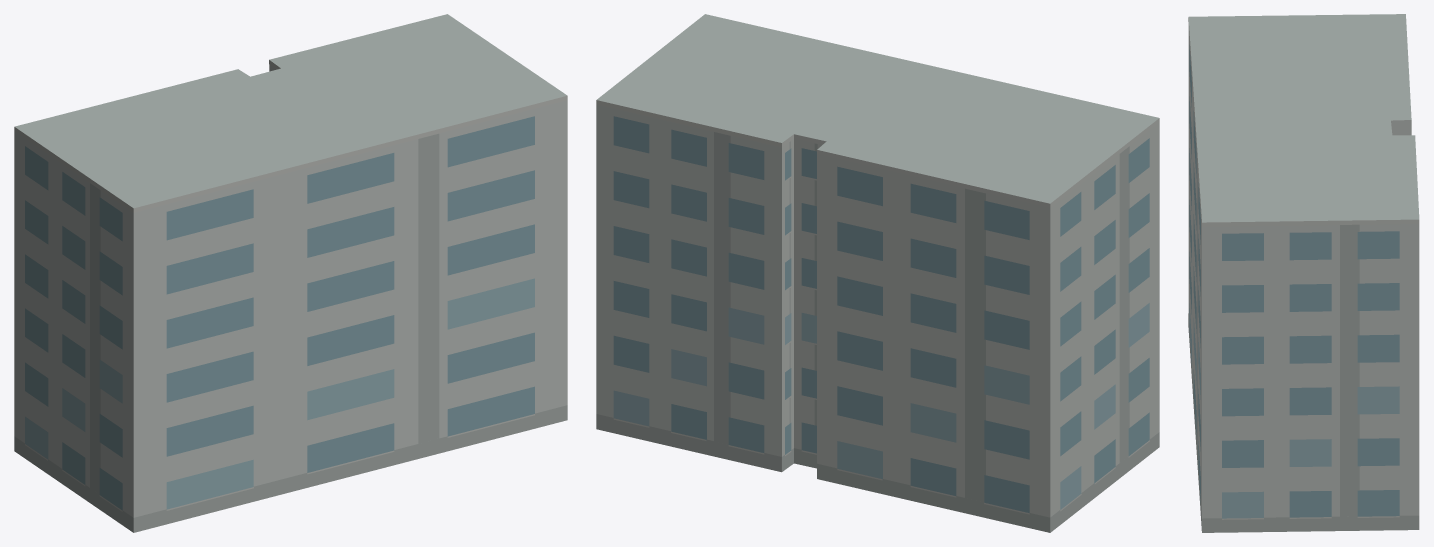
Rendered from survey-upis-32839145.glb.
3 renders of one model, left to right at view 1: azimuth 30°, elevation 25°; view 2: azimuth 150°, elevation 25°; view 3: azimuth 270°, elevation 25°, orthographic. The views are drawn at different scales.
Visible parts, largest first — view 1: survey-upis-32839145.tmp; view 2: survey-upis-32839145.tmp; view 3: survey-upis-32839145.tmp.
Part boxes in pixels (left/top/right/bottom): survey-upis-32839145.tmp: left=14, top=14, right=567, bottom=532; survey-upis-32839145.tmp: left=596, top=14, right=1159, bottom=532; survey-upis-32839145.tmp: left=1188, top=14, right=1419, bottom=532.
Bounding box in the file's own units: 25.08 × 17.4 × 11.74.
